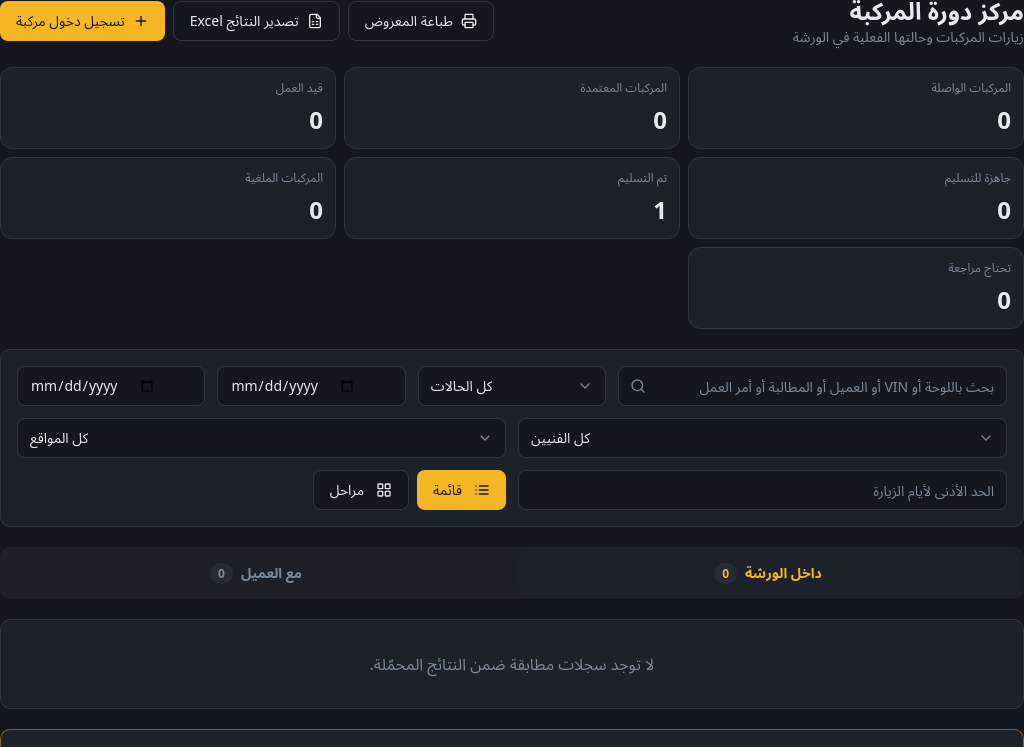
Test case: vehicle entry list visit workflow › places reviewed historical records under their operational milestone without hiding the warning
Step 1. Click the button "تم التسليم 1" → (643, 178), box [344, 157, 680, 239]
(page scrolled)
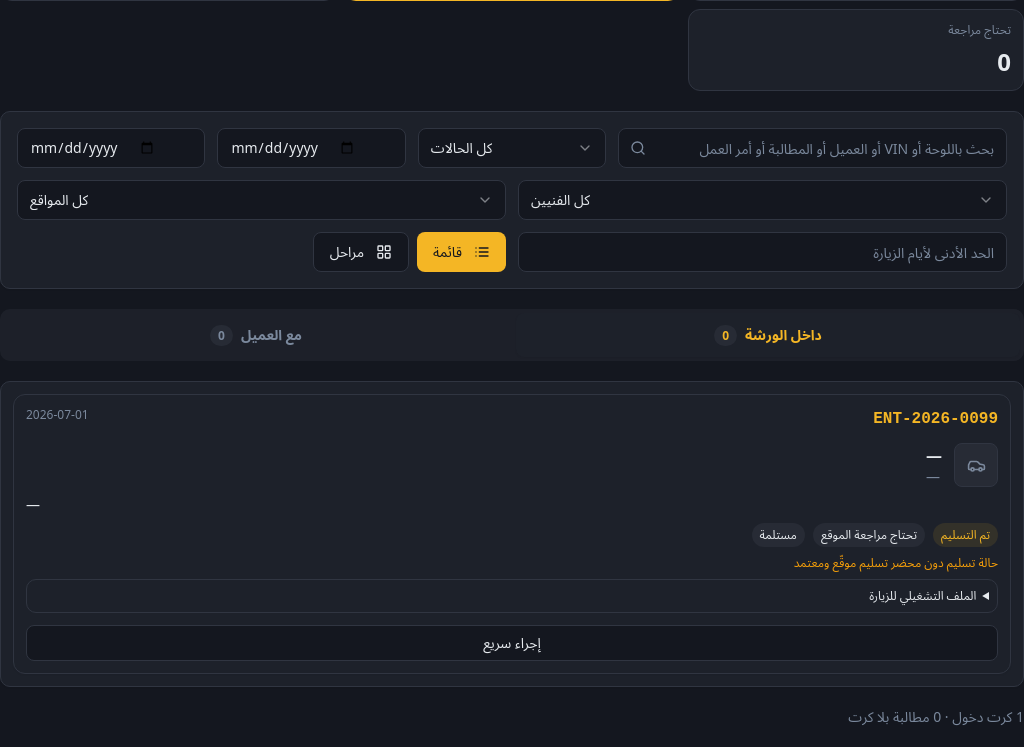
Expected: the link "ENT-2026-0099" is shown, [873, 407, 998, 431]
Expected: the text "حالة تسليم دون محضر تسليم موقّع ومعتمد" is shown, [794, 554, 998, 571]
